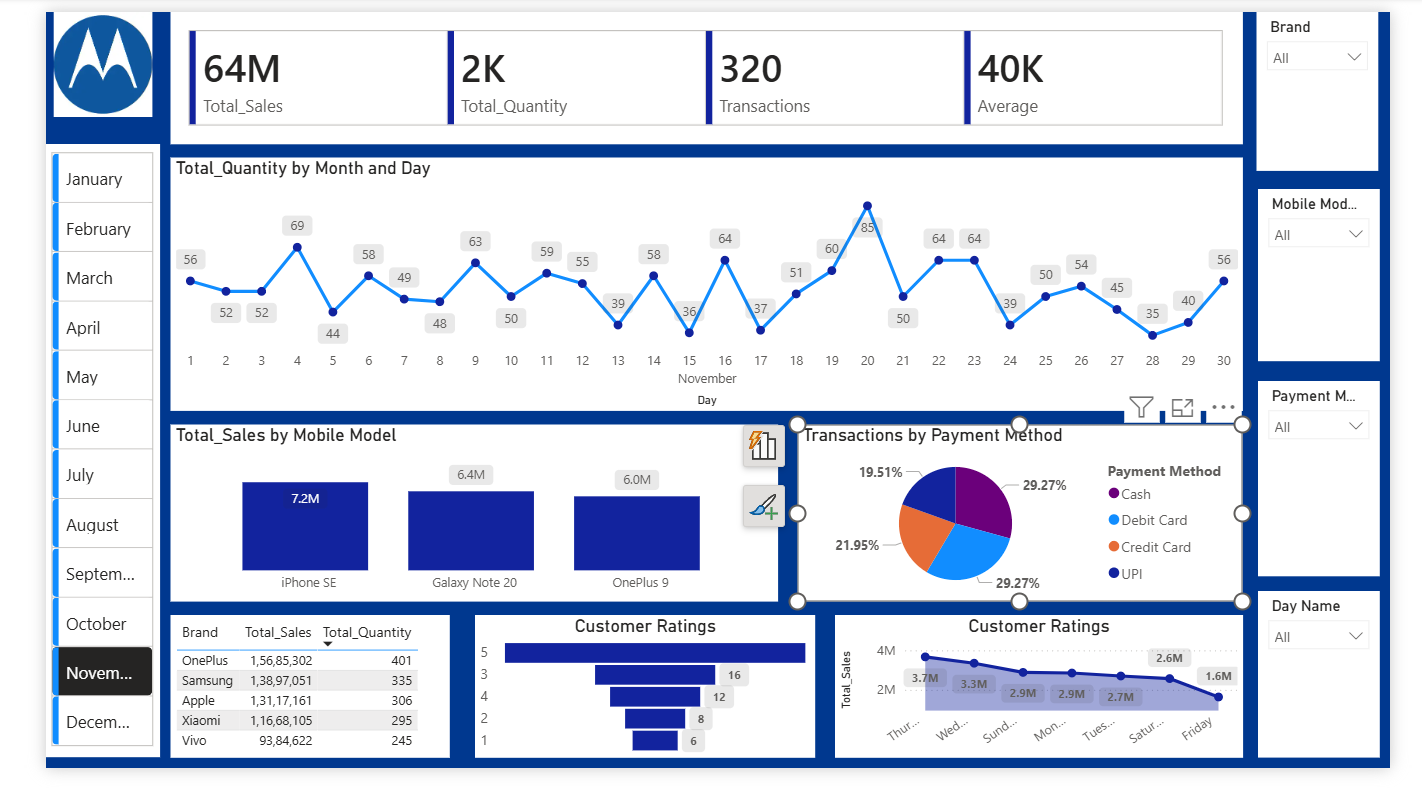

What the dashboard file says about the page in this screenshot:
{"tool":"powerbi","page":{"name":"Page 1","canvas":[1280,720],"ordinal":0},"visuals":[{"type":"image","box":[0,0,108.6,100],"z":0},{"type":"advancedSlicerVisual","fields":{"Values":["Sales_Data_dashboard.Date.Variation.Date Hierarchy.Month"]},"box":[0,125.7,108.6,584.3],"z":1000},{"type":"cardVisual","fields":{"Data":["Sales_Data_dashboard.Total_Sales","Sales_Data_dashboard.Total_Quantity","Sales_Data_dashboard.Transactions","Sales_Data_dashboard.Average"]},"box":[118.6,0,1021.4,125.7],"z":2000},{"type":"lineChart","fields":{"Category":["Sales_Data_dashboard.Date.Variation.Date Hierarchy.Month","Sales_Data_dashboard.Date.Variation.Date Hierarchy.Day"],"Y":["Sales_Data_dashboard.Total_Quantity"]},"box":[118.6,138.6,1021.4,241.4],"z":3000},{"type":"clusteredColumnChart","fields":{"Category":["Sales_Data_dashboard.Mobile Model"],"Y":["Sales_Data_dashboard.Total_Sales"]},"box":[118.6,392.9,578.6,168.6],"z":4000},{"type":"pieChart","fields":{"Category":["Sales_Data_dashboard.Payment Method"],"Y":["Sales_Data_dashboard.Transactions"]},"box":[715.7,392.9,424.3,168.6],"z":5000},{"type":"funnel","title":"Customer Ratings ","fields":{"Category":["Sales_Data_dashboard.Customer Ratings"],"Y":["CountNonNull(Sales_Data_dashboard.Customer Ratings)"]},"box":[408.6,574.3,324.3,135.7],"z":6000},{"type":"areaChart","title":"Customer Ratings ","fields":{"Category":["Sales_Data_dashboard.Day Name"],"Y":["Sales_Data_dashboard.Total_Sales"]},"box":[751.4,574.3,388.6,135.7],"z":7000},{"type":"tableEx","fields":{"Values":["Sales_Data_dashboard.Brand","Sales_Data_dashboard.Total_Sales","Sales_Data_dashboard.Total_Quantity"]},"box":[118.6,574.3,265.7,135.7],"z":8000},{"type":"slicer","fields":{"Values":["Sales_Data_dashboard.Brand"]},"box":[1152.9,0,115.7,151.4],"z":9000},{"type":"slicer","fields":{"Values":["Sales_Data_dashboard.Day Name"]},"box":[1154.3,551.4,115.7,158.6],"z":9004},{"type":"slicer","fields":{"Values":["Sales_Data_dashboard.Payment Method"]},"box":[1154.3,351.4,115.7,185.7],"z":9005},{"type":"slicer","fields":{"Values":["Sales_Data_dashboard.Mobile Model"]},"box":[1154.3,168.6,115.7,164.3],"z":9006}]}

Visuals, with their boxes in screenshot pixels (x1, y1, x2, y2), scaled from the page's 1280x720 canvas onto the 1422x788 screenshot:
image: region(0, 0, 121, 109)
advancedSlicerVisual - Sales_Data_dashboard.Date.Variation.Date Hierarchy.Month: region(0, 138, 121, 777)
cardVisual - Sales_Data_dashboard.Total_Sales x Sales_Data_dashboard.Total_Quantity: region(132, 0, 1266, 138)
lineChart - Sales_Data_dashboard.Date.Variation.Date Hierarchy.Month x Sales_Data_dashboard.Date.Variation.Date Hierarchy.Day: region(132, 152, 1266, 416)
clusteredColumnChart - Sales_Data_dashboard.Mobile Model x Sales_Data_dashboard.Total_Sales: region(132, 430, 775, 615)
pieChart - Sales_Data_dashboard.Payment Method x Sales_Data_dashboard.Transactions: region(795, 430, 1266, 615)
"Customer Ratings " funnel: region(454, 629, 814, 777)
"Customer Ratings " areaChart: region(835, 629, 1266, 777)
tableEx - Sales_Data_dashboard.Brand x Sales_Data_dashboard.Total_Sales: region(132, 629, 427, 777)
slicer - Sales_Data_dashboard.Brand: region(1281, 0, 1409, 166)
slicer - Sales_Data_dashboard.Day Name: region(1282, 603, 1411, 777)
slicer - Sales_Data_dashboard.Payment Method: region(1282, 385, 1411, 588)
slicer - Sales_Data_dashboard.Mobile Model: region(1282, 185, 1411, 364)
